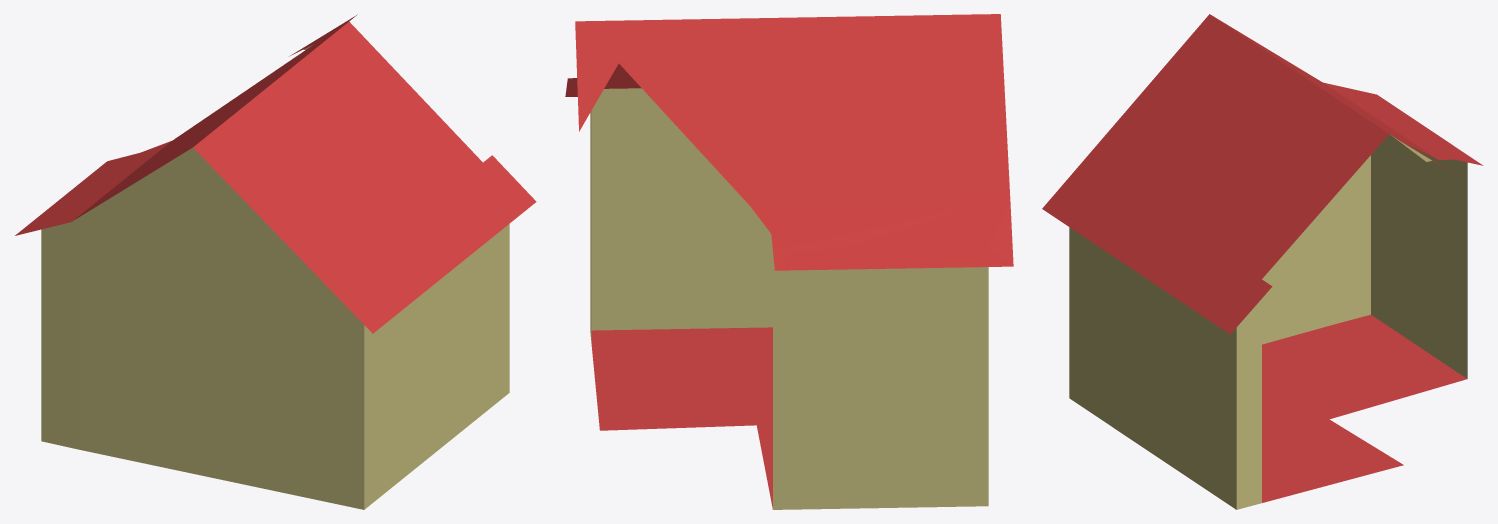
3 views of the same model, side by side, from view 1: azimuth 30°, elevation 25°; view 2: azimuth 150°, elevation 25°; view 3: azimuth 270°, elevation 25° (orthographic). The views are drawn at different scales.
Size of the model in its own units: 19.44 by 16.61 by 13.89.
